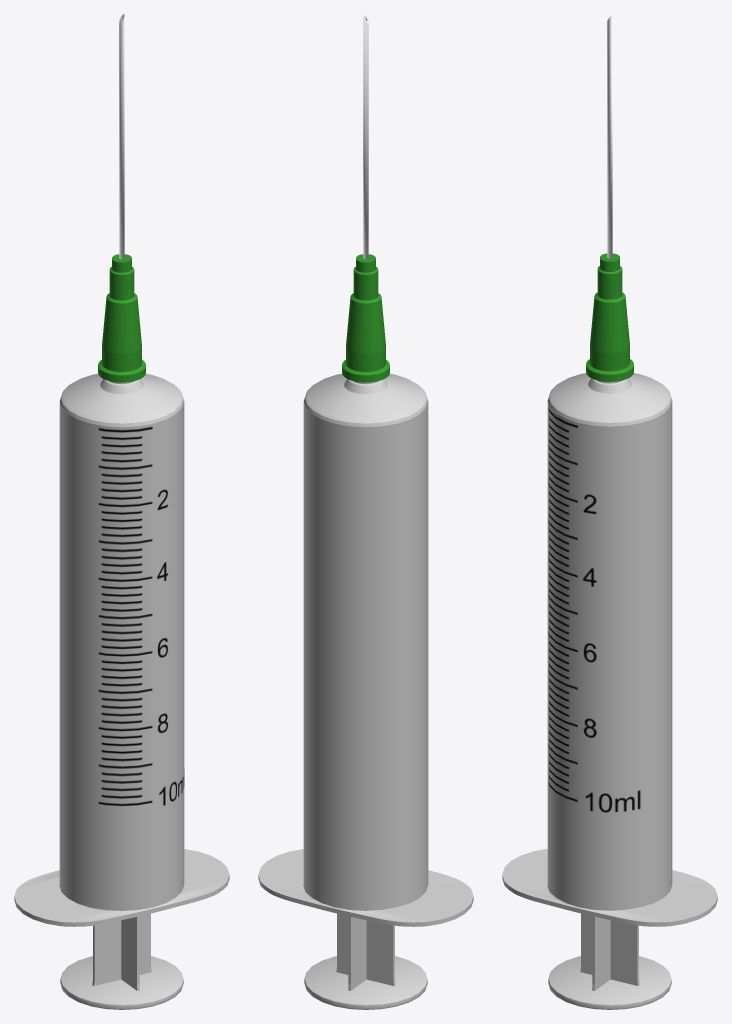
The model's file is medical_syringe.glb.
3 renders of one model, left to right at view 1: azimuth 30°, elevation 25°; view 2: azimuth 150°, elevation 25°; view 3: azimuth 330°, elevation 25°, orthographic.
Visible parts, largest first — view 1: Object_6, Object_2, Object_4, Object_5; view 2: Object_6, Object_4, Object_5; view 3: Object_6, Object_2, Object_4, Object_5.
Part boxes in pixels (x1,y1,x2,y2): Object_6: [14, 373, 229, 1009]; Object_2: [98, 427, 184, 805]; Object_4: [98, 254, 145, 382]; Object_5: [119, 14, 124, 259]; Object_6: [258, 373, 473, 1009]; Object_4: [342, 254, 389, 382]; Object_5: [363, 14, 368, 259]; Object_6: [502, 373, 717, 1009]; Object_2: [548, 408, 640, 812]; Object_4: [586, 253, 633, 381]; Object_5: [607, 14, 612, 258].
Size of the model in its own units: 0.0498 by 0.2328 by 0.0276.
Materials: 5 (1 with a texture image).
